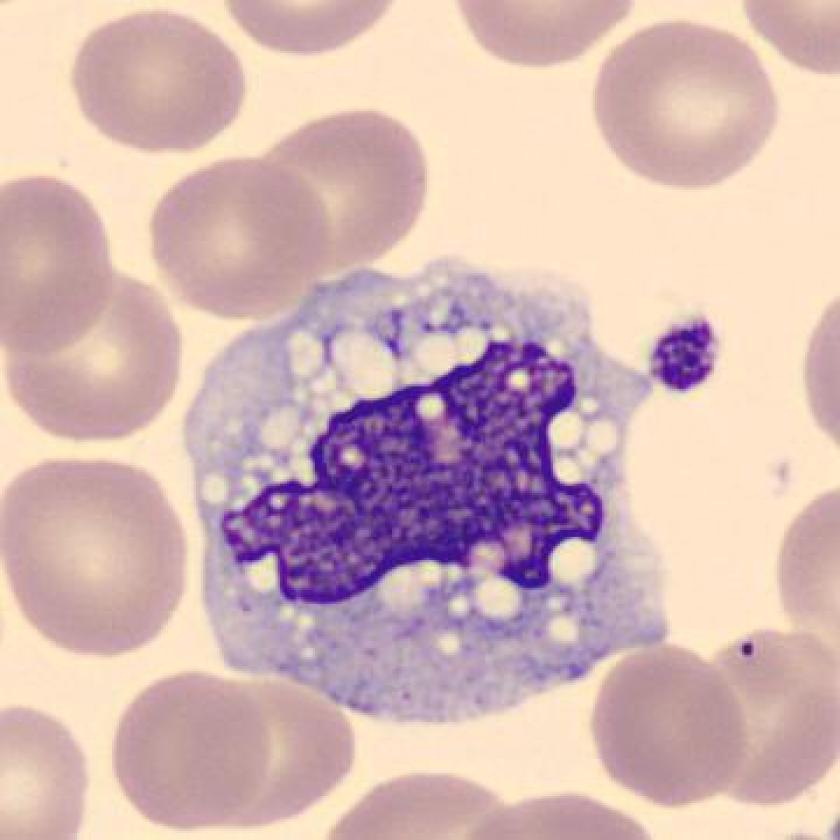monocyte: (169, 246, 685, 737)
